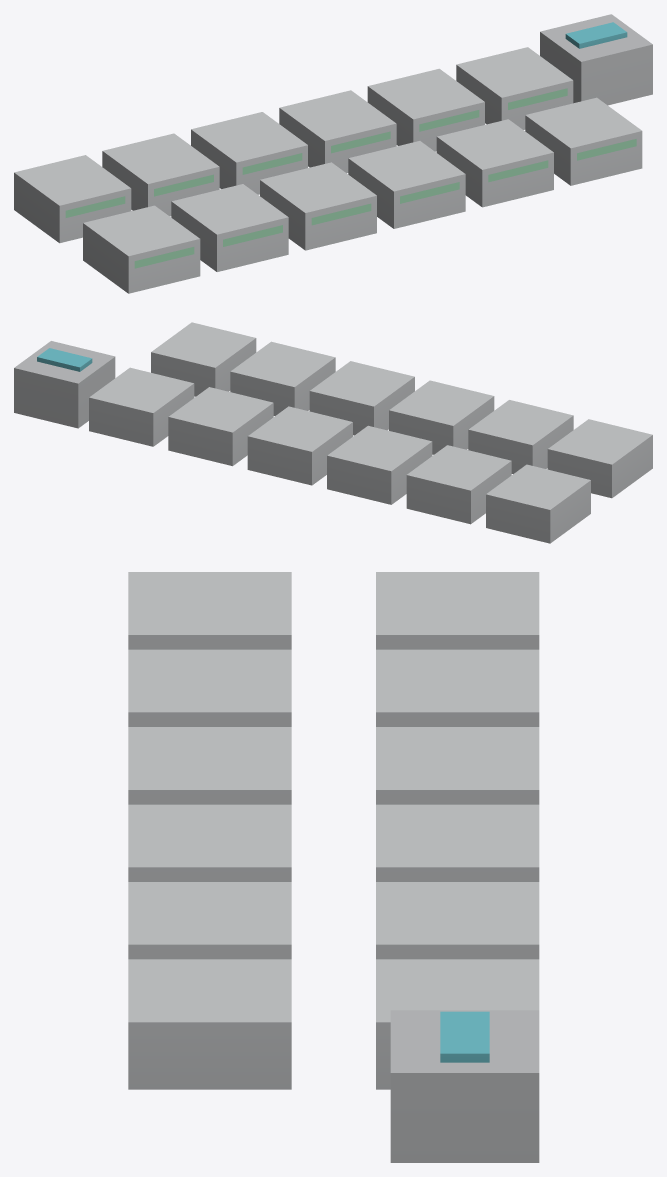
File: plant_battery_l3.glb
The picture shows the model from 3 angles, top to bottom: view 1: azimuth 30°, elevation 25°; view 2: azimuth 150°, elevation 25°; view 3: azimuth 270°, elevation 25°; orthographic projection. The views are drawn at different scales.
Visible parts, largest first — view 1: plant_battery_l3; view 2: plant_battery_l3; view 3: plant_battery_l3.
Boxes of the visible parts, x1=… form: plant_battery_l3: x1=14, y1=14, x2=652, y2=293; plant_battery_l3: x1=14, y1=322, x2=652, y2=543; plant_battery_l3: x1=128, y1=572, x2=539, y2=1162.
Bounding box in the file's own units: 50 × 4.4 × 16.62.
